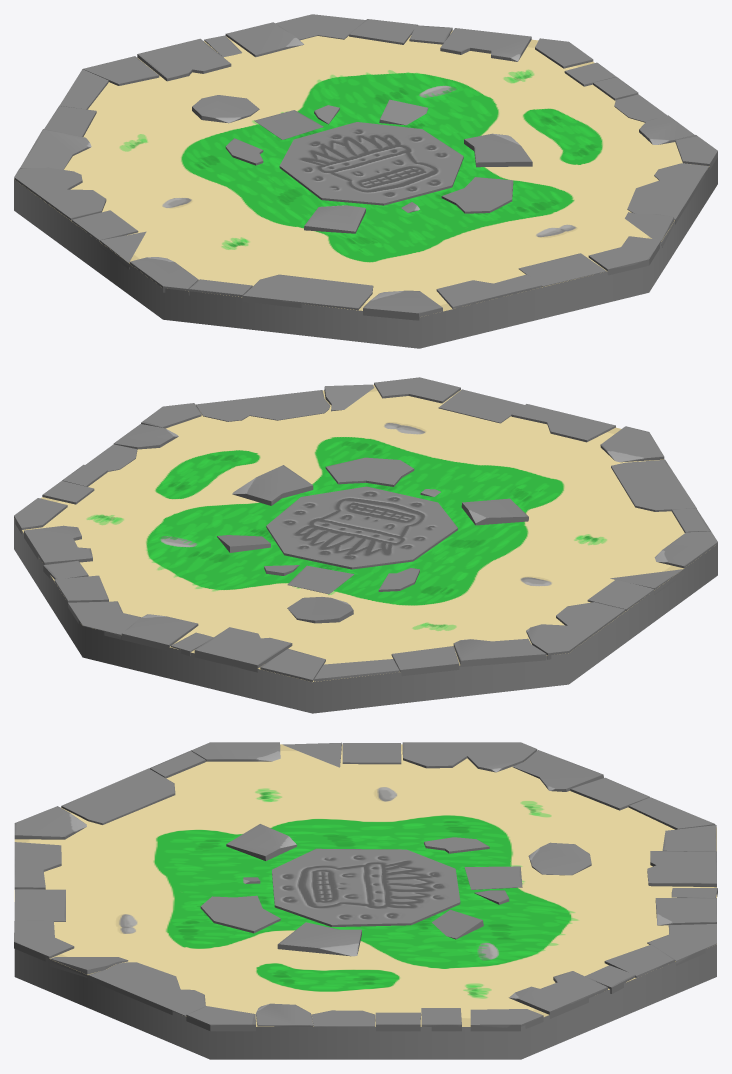
File: Map_Relief.FBX
3 views of the same model, one above another, from view 1: azimuth 30°, elevation 25°; view 2: azimuth 150°, elevation 25°; view 3: azimuth 270°, elevation 25° (orthographic). The views are drawn at different scales.
Parts seen in each view (by area): view 1: Map, Dalle Ext., Dalle Int.; view 2: Map, Dalle Ext., Dalle Int.; view 3: Map, Dalle Ext., Dalle Int..
Boxes of the visible parts, x1,y1,x2,y2 form: Map: [14, 30, 717, 348]; Dalle Ext.: [14, 14, 717, 320]; Dalle Int.: [192, 95, 532, 233]; Map: [14, 384, 717, 713]; Dalle Ext.: [14, 377, 717, 681]; Dalle Int.: [217, 457, 528, 623]; Map: [14, 744, 716, 1059]; Dalle Ext.: [14, 742, 717, 1031]; Dalle Int.: [200, 824, 591, 956].
Bounding box in the file's own units: 18.49 × 1.21 × 19.47.
3 materials, 3 textured.
